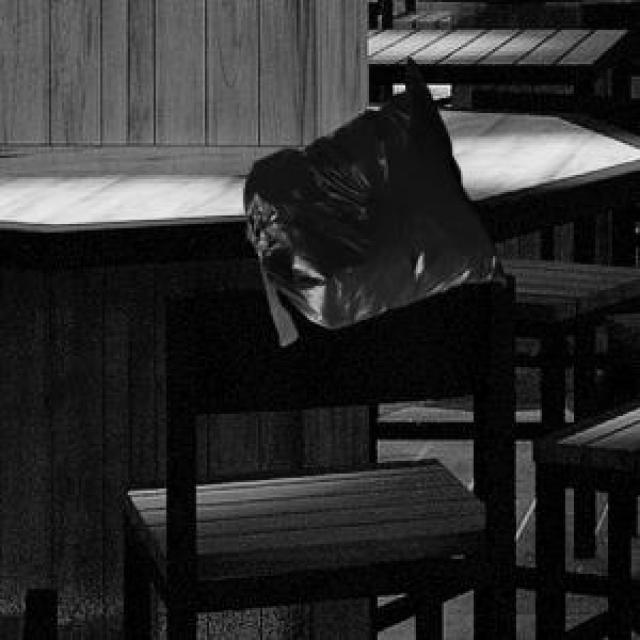miscellaneous trash: (239, 53, 501, 341)
